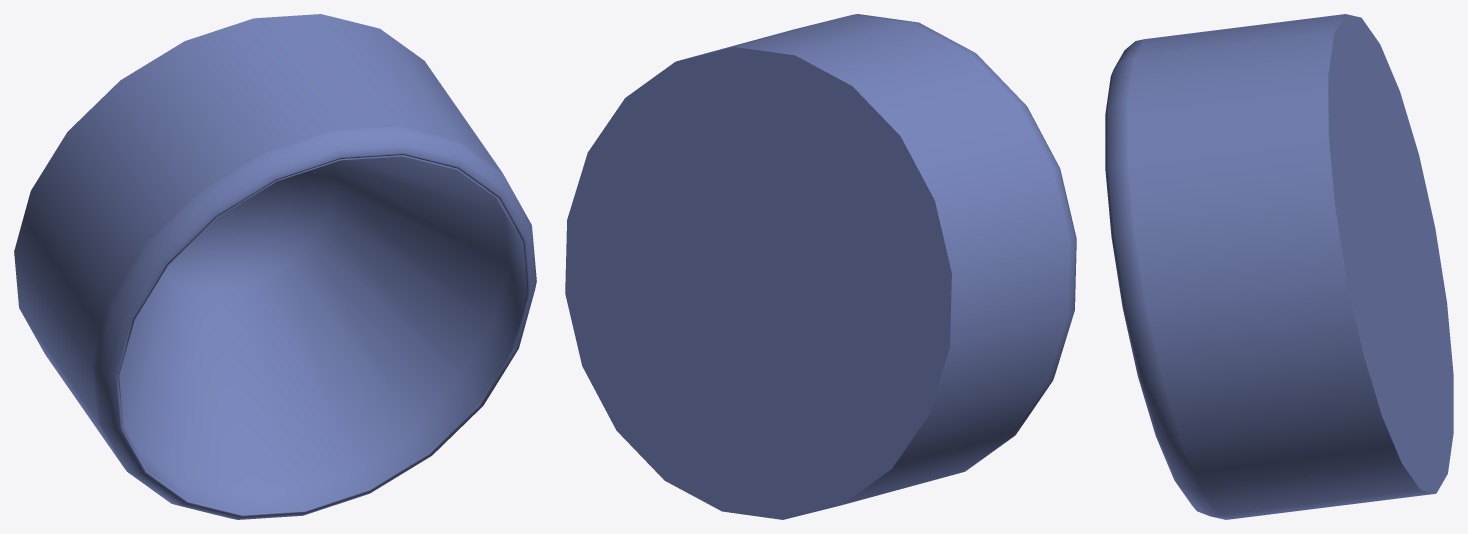
The model's file is BL1_8shapes_Round_Classic_Metal.001 3.glb.
3 renders of one model, left to right at view 1: azimuth 30°, elevation 25°; view 2: azimuth 150°, elevation 25°; view 3: azimuth 270°, elevation 25°, orthographic. The views are drawn at different scales.
Visible parts, largest first — view 1: BL1_8shapes_Round_Classic_Metal.001; view 2: BL1_8shapes_Round_Classic_Metal.001; view 3: BL1_8shapes_Round_Classic_Metal.001.
Part boxes in pixels (x1,y1,x2,y2): BL1_8shapes_Round_Classic_Metal.001: (14, 14, 536, 519); BL1_8shapes_Round_Classic_Metal.001: (565, 14, 1076, 519); BL1_8shapes_Round_Classic_Metal.001: (1105, 14, 1453, 519).
Bounding box in the file's own units: 0.5032 × 0.5085 × 0.3431.
